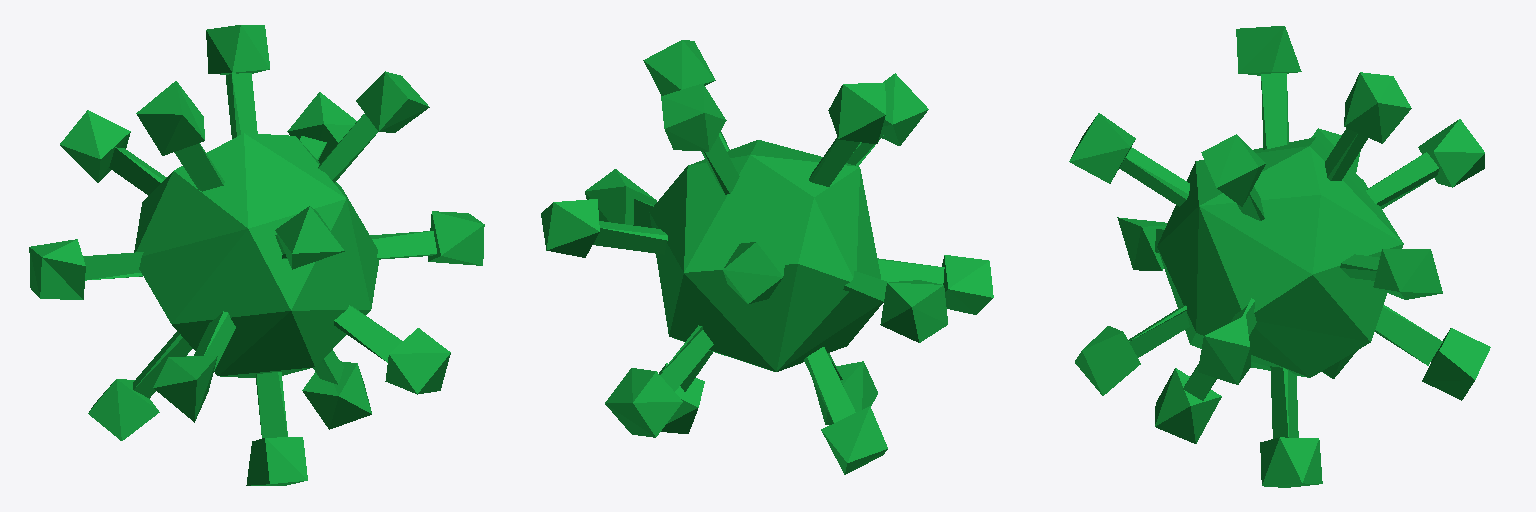
3 views of the same model, side by side, from view 1: azimuth 30°, elevation 25°; view 2: azimuth 150°, elevation 25°; view 3: azimuth 270°, elevation 25° (orthographic).
Visible parts, largest first — view 1: Icosphere_Icosphere.002; view 2: Icosphere_Icosphere.002; view 3: Icosphere_Icosphere.002.
Boxes of the visible parts, box(x1,y1,x2,y2) form: Icosphere_Icosphere.002: box(29, 25, 484, 485); Icosphere_Icosphere.002: box(541, 40, 993, 474); Icosphere_Icosphere.002: box(1069, 26, 1490, 487).
Bounding box in the file's own units: 3.73 × 3.53 × 3.45.
Materials: 1 (1 with a texture image).